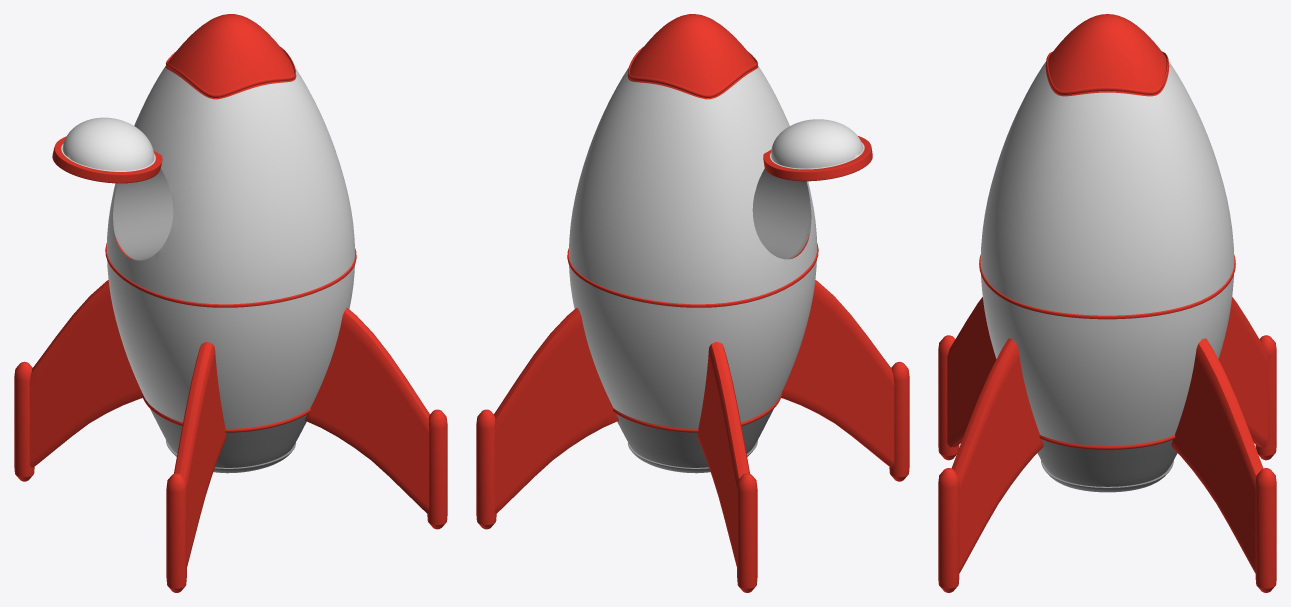
Rendered from Rocket.fbx.
3 renders of one model, left to right at view 1: azimuth 30°, elevation 25°; view 2: azimuth 150°, elevation 25°; view 3: azimuth 270°, elevation 25°, orthographic. The views are drawn at different scales.
Visible parts, largest first — view 1: kids Lamp.004, Sphere.021; view 2: kids Lamp.004, Sphere.021; view 3: kids Lamp.004.
Part boxes in pixels (x1,y1,x2,y2): kids Lamp.004: (14, 14, 447, 592); Sphere.021: (52, 117, 162, 183); kids Lamp.004: (476, 14, 909, 592); Sphere.021: (763, 119, 872, 181); kids Lamp.004: (938, 14, 1276, 592).
Bounding box in the file's own units: 34.71 × 51.96 × 31.36.
